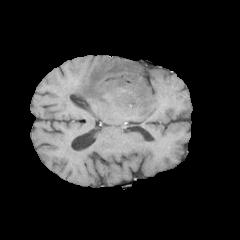glioma: (57, 58, 178, 116)
